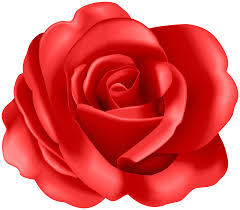lale: (0, 3, 240, 210)
